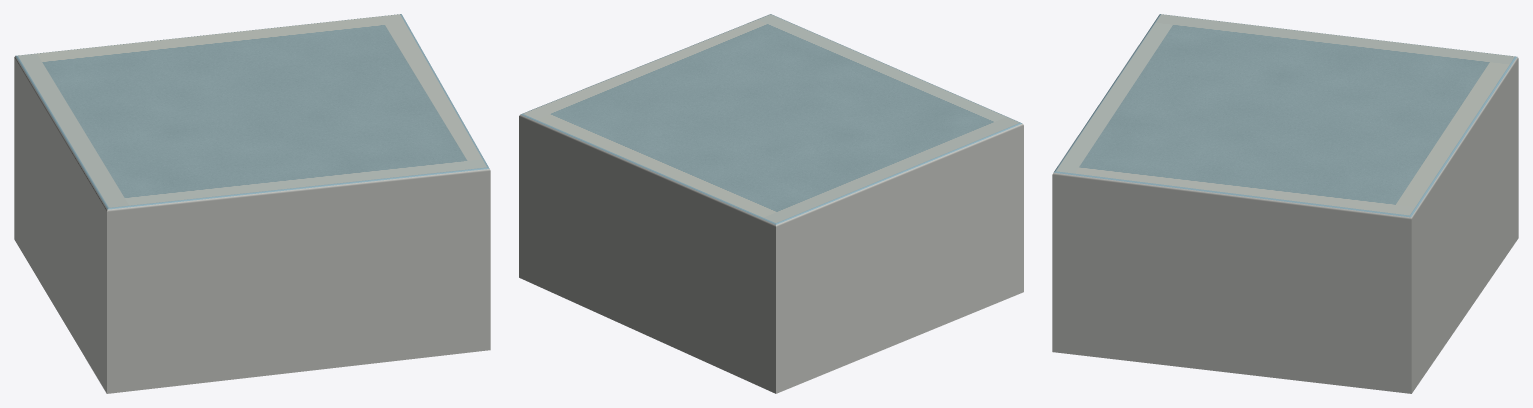
File: intact.glb
The picture shows the model from 3 angles, left to right: view 1: azimuth 30°, elevation 25°; view 2: azimuth 150°, elevation 25°; view 3: azimuth 270°, elevation 25°; orthographic projection. The views are drawn at different scales.
Visible parts, largest first — view 1: SM_apple-annex_Intact_00; view 2: SM_apple-annex_Intact_00; view 3: SM_apple-annex_Intact_00.
Part boxes in pixels (x1=…): SM_apple-annex_Intact_00: x1=14, y1=14, x2=490, y2=393; SM_apple-annex_Intact_00: x1=519, y1=14, x2=1023, y2=393; SM_apple-annex_Intact_00: x1=1052, y1=14, x2=1518, y2=393.
Bounding box in the file's own units: 2.2 × 0.9178 × 2.12.
3 materials, 1 textured.
